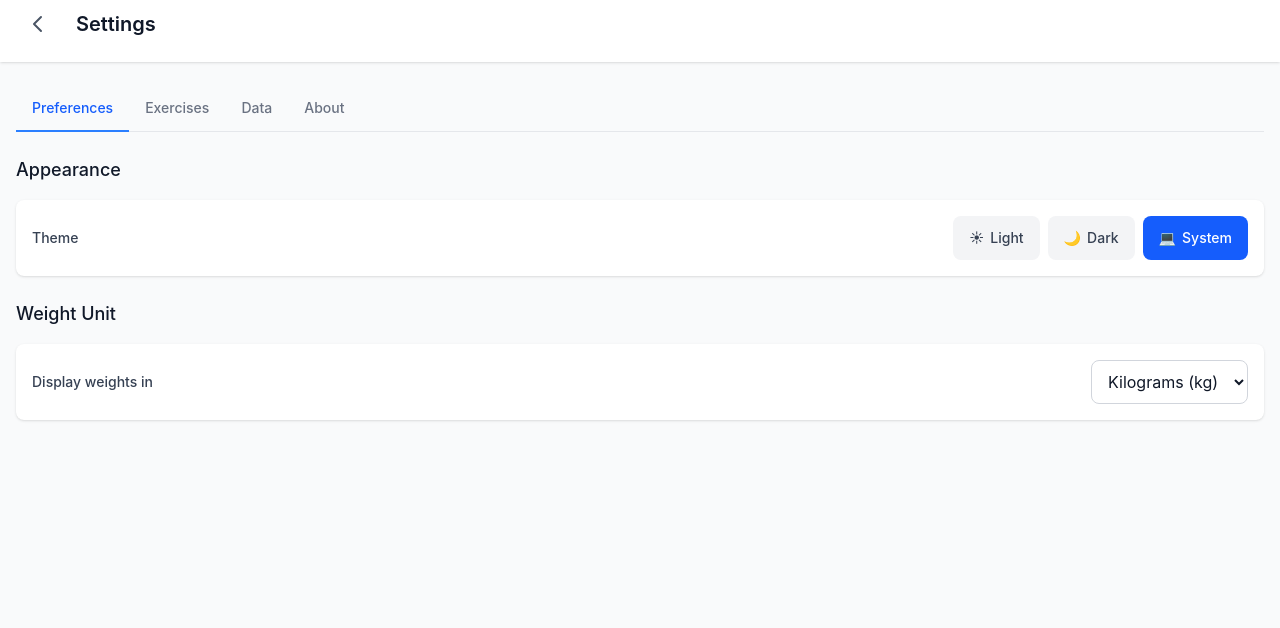
it: [US6] Export/Import Integration - Settings Page › should render export button in settings
The image size is (1280, 628).
// Navigate to the Data tab where export/import/reset buttons are located
Click the tab "Data": (257,109) [225, 86, 288, 132]
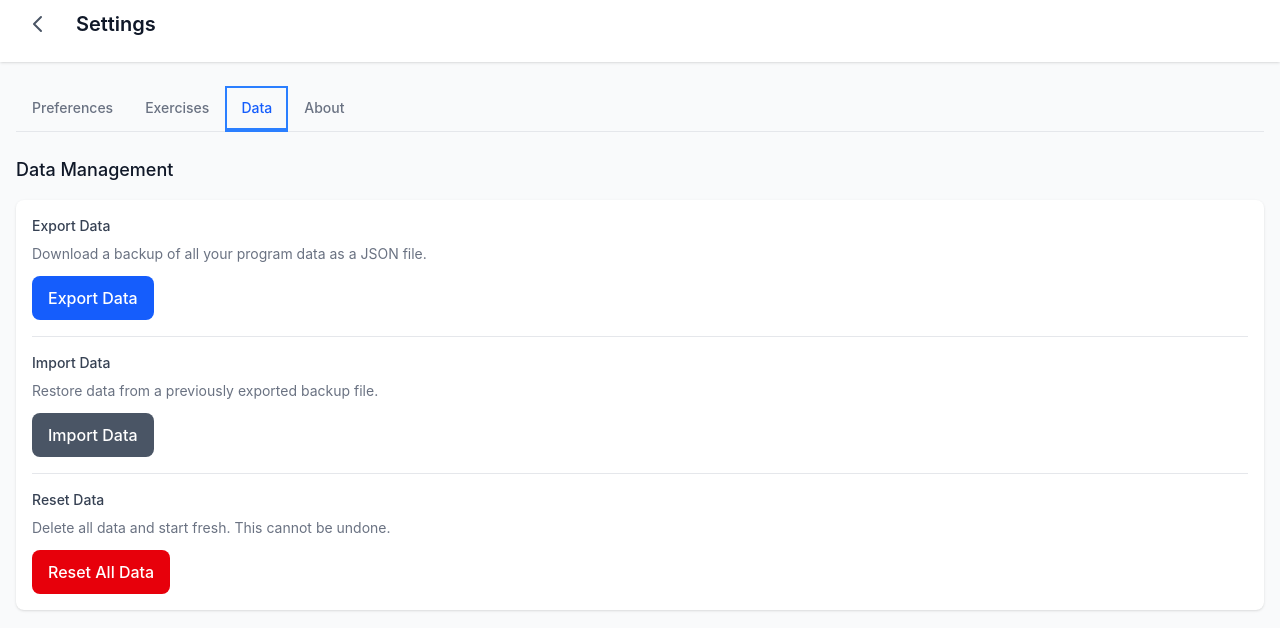
expect the button "Export Data" is shown: met, box [32, 276, 154, 320]
